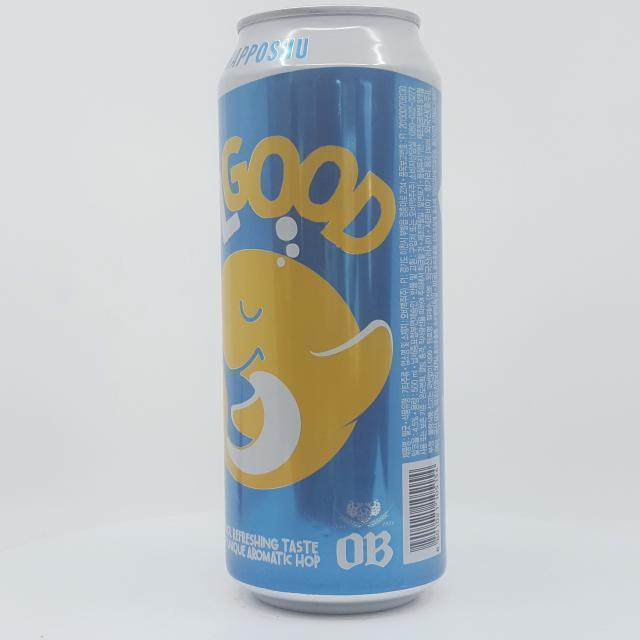can: (214, 3, 451, 618)
